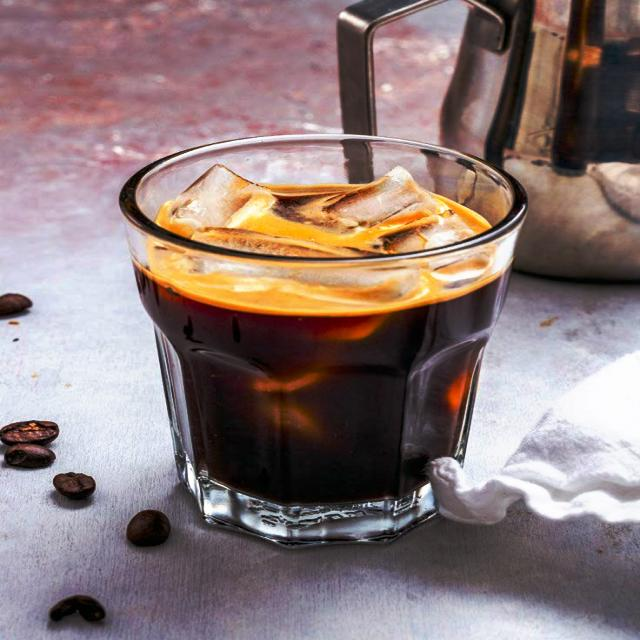drink: (123, 136, 527, 514)
